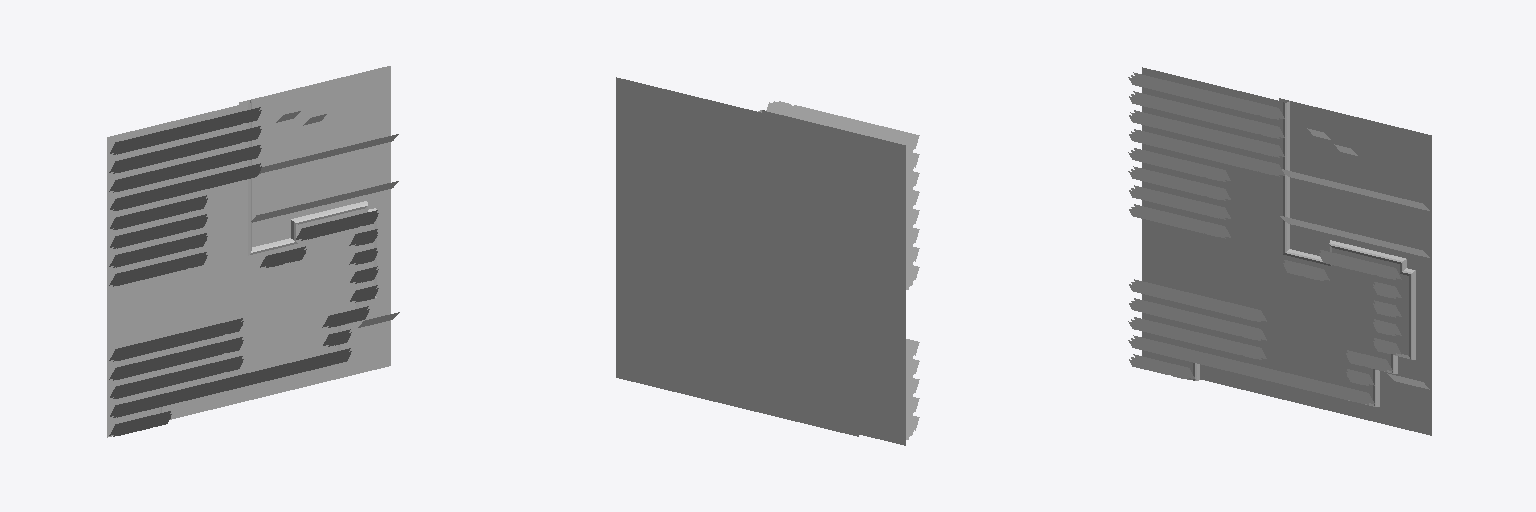
The model's file is Plat_full_01_17.obj.
The picture shows the model from 3 angles: view 1: azimuth 30°, elevation 25°; view 2: azimuth 150°, elevation 25°; view 3: azimuth 330°, elevation 25°; orthographic projection.
Visible parts, largest first — view 1: map; view 2: map; view 3: map.
Boxes of the visible parts, x1=… form: map: x1=107, y1=66, x2=399, y2=437; map: x1=616, y1=77, x2=919, y2=445; map: x1=1128, y1=67, x2=1431, y2=435.
Bounding box in the file's own units: 32 × 32.12 × 3.14.